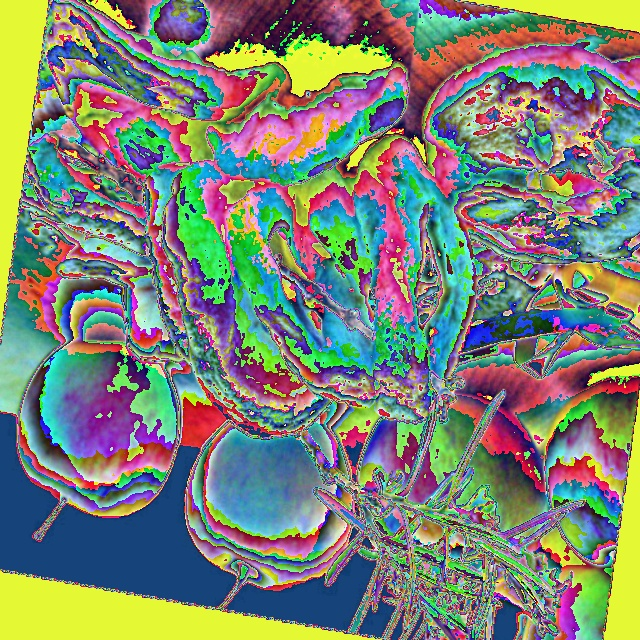background: (17, 0, 639, 609), (37, 50, 526, 613), (22, 28, 483, 569), (16, 32, 463, 560), (34, 32, 443, 549), (31, 29, 402, 537), (187, 266, 639, 639), (88, 115, 491, 505)
